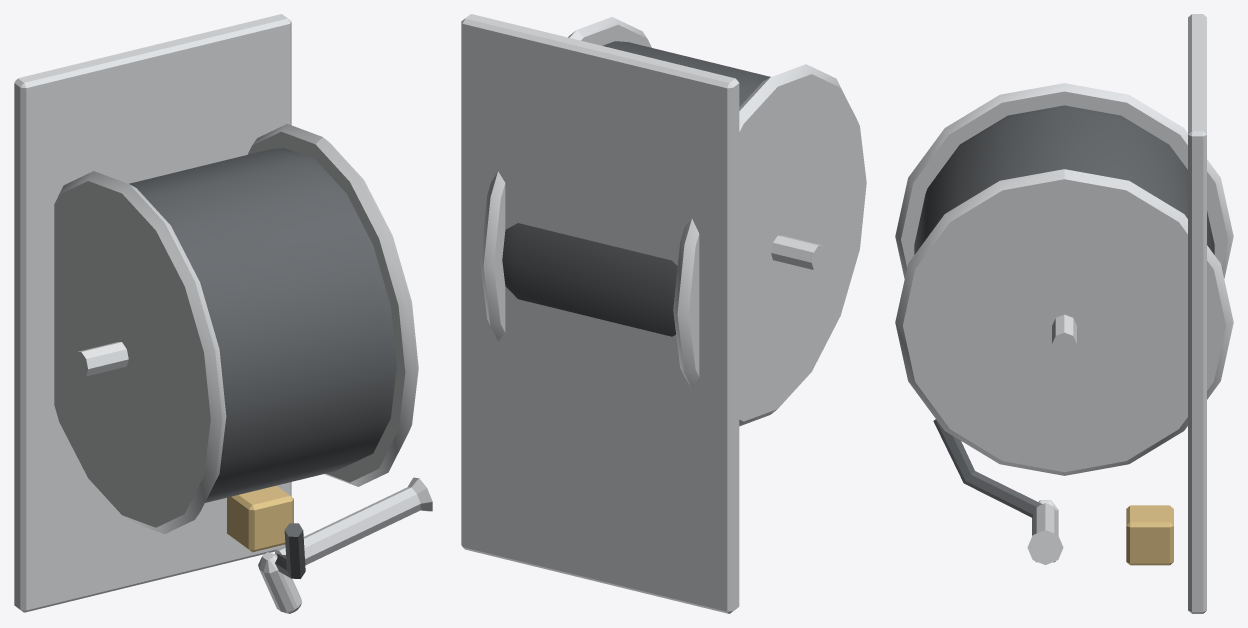
Rendered from restaurant-kitchen-and-dining-wash-down-hose-reel-dce18c00__16475.glb.
The picture shows the model from 3 angles, left to right: view 1: azimuth 30°, elevation 25°; view 2: azimuth 150°, elevation 25°; view 3: azimuth 270°, elevation 25°; orthographic projection. The views are drawn at different scales.
Visible parts, largest first — view 1: wash-down-hose-reel; view 2: wash-down-hose-reel; view 3: wash-down-hose-reel.
Boxes of the visible parts, box(x1,y1,x2,y2) form: wash-down-hose-reel: box(14, 14, 432, 613); wash-down-hose-reel: box(461, 14, 866, 613); wash-down-hose-reel: box(895, 14, 1233, 613).
Bounding box in the file's own units: 0.3703 × 0.56 × 0.356.
